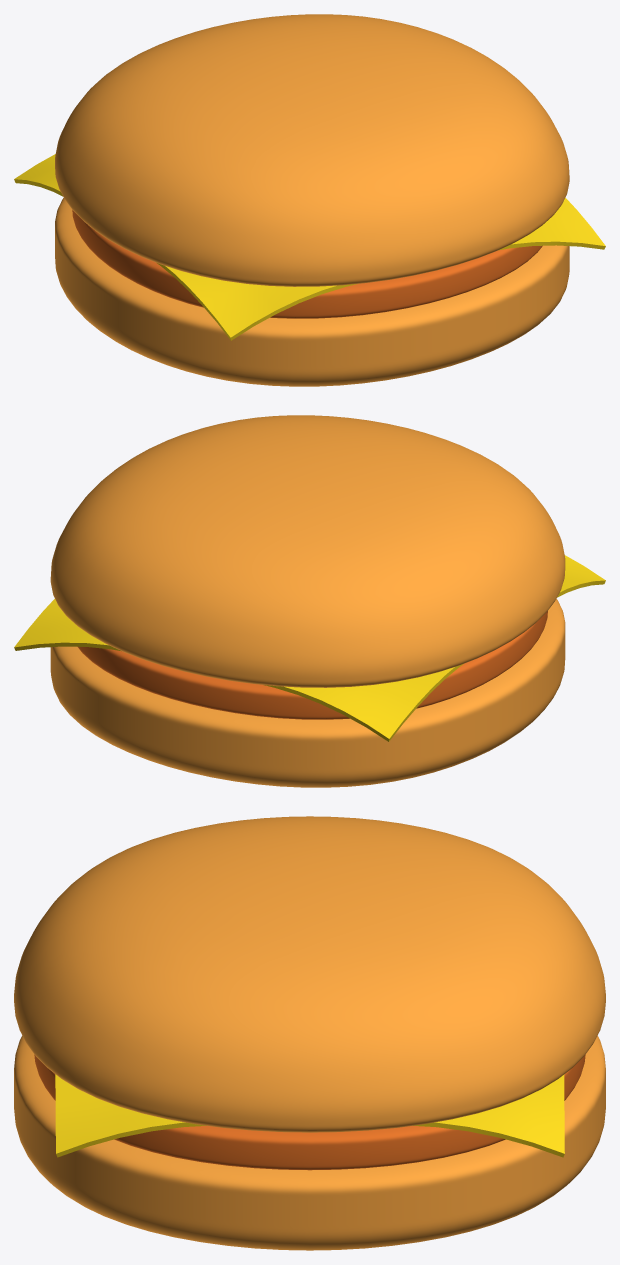
Rendered from Hamburger.glb.
The picture shows the model from 3 angles, top to bottom: view 1: azimuth 30°, elevation 25°; view 2: azimuth 150°, elevation 25°; view 3: azimuth 270°, elevation 25°; orthographic projection. The views are drawn at different scales.
Parts seen in each view (by area): view 1: Cube.002, Cube, Cube.001, Plane; view 2: Cube.002, Cube, Cube.001, Plane; view 3: Cube.002, Cube, Cube.001, Plane.
Part boxes in pixels (bbox=[...]): Cube.002: bbox=[55, 14, 569, 286]; Cube: bbox=[55, 198, 569, 386]; Cube.001: bbox=[72, 210, 542, 318]; Plane: bbox=[14, 154, 605, 340]; Cube.002: bbox=[50, 415, 565, 687]; Cube: bbox=[50, 599, 565, 787]; Cube.001: bbox=[77, 611, 547, 719]; Plane: bbox=[14, 555, 605, 741]; Cube.002: bbox=[14, 816, 605, 1132]; Cube: bbox=[14, 1035, 605, 1250]; Cube.001: bbox=[34, 1054, 585, 1170]; Plane: bbox=[55, 1074, 564, 1157].
Size of the model in its own units: 9.02 by 4.65 by 9.02.
